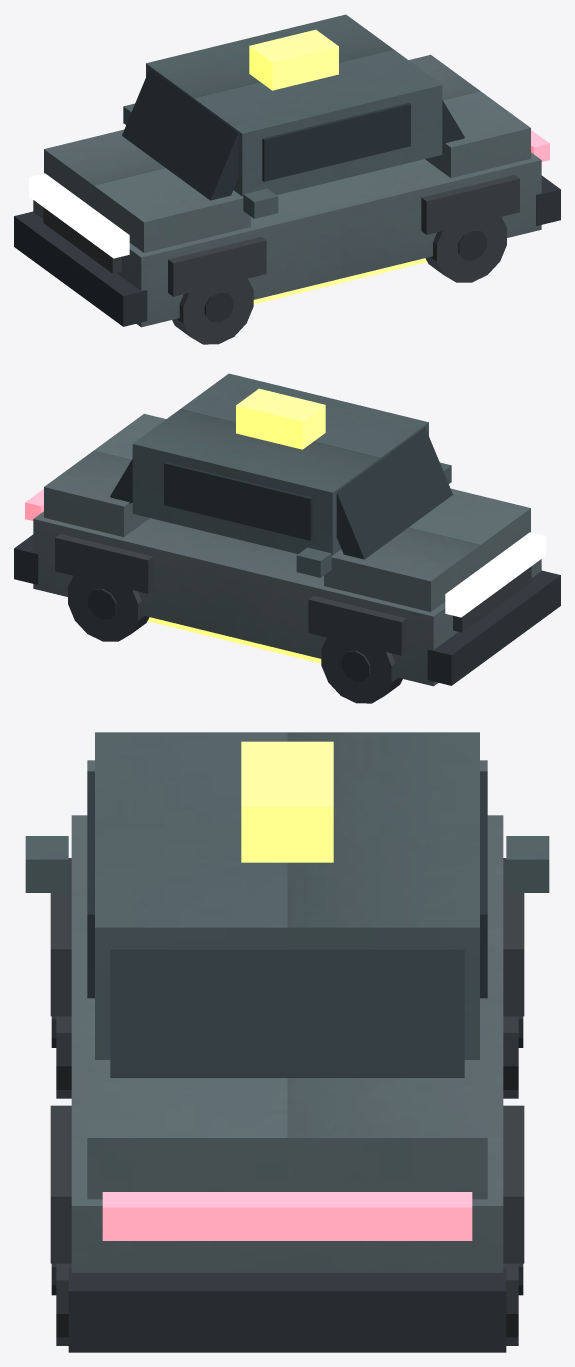
Rendered from decor-taxi.glb.
3 views of the same model, one above another, from view 1: azimuth 30°, elevation 25°; view 2: azimuth 150°, elevation 25°; view 3: azimuth 270°, elevation 25° (orthographic). The views are drawn at different scales.
Parts seen in each view (by area): view 1: DecorTaxi; view 2: DecorTaxi; view 3: DecorTaxi.
Part boxes in pixels (x1,y1,x2,y2): DecorTaxi: (14, 14, 560, 344); DecorTaxi: (14, 373, 560, 703); DecorTaxi: (25, 732, 549, 1352).
Bounding box in the file's own units: 0.328 × 0.16 × 0.17.
9 materials, 2 textured.
